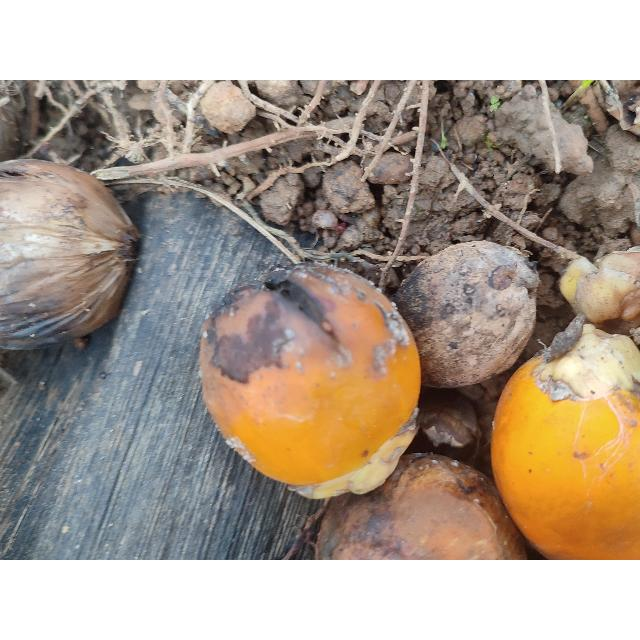damaged: (196, 264, 400, 492), (0, 159, 146, 353), (323, 450, 514, 560), (401, 242, 542, 388)
